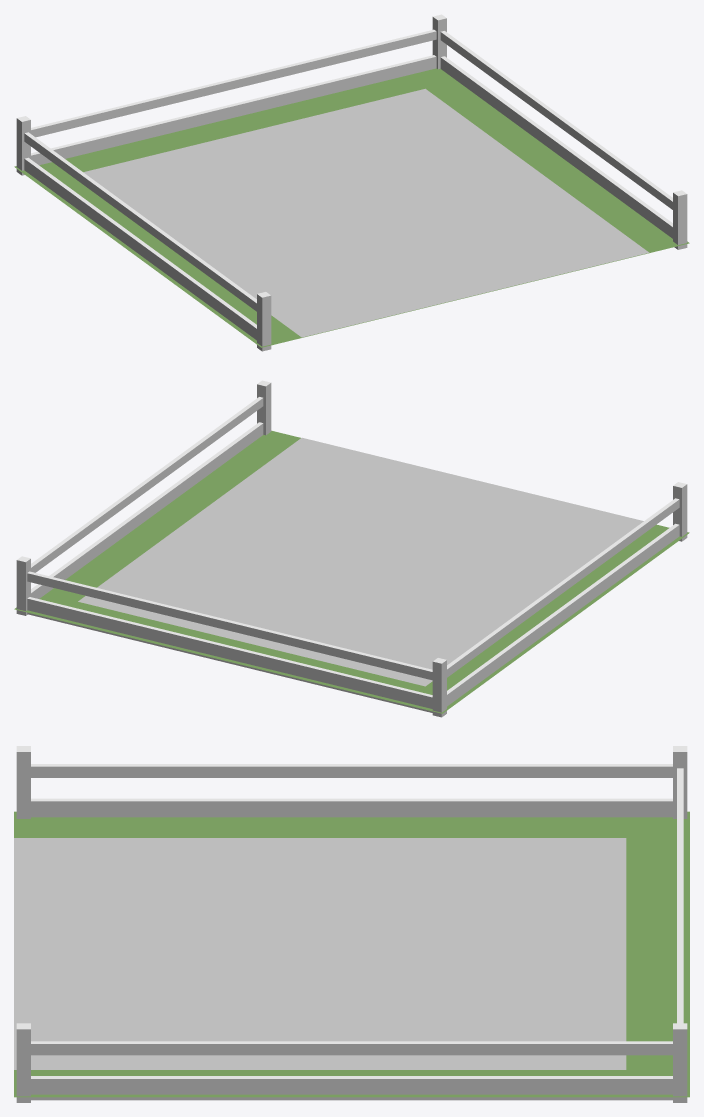
Rendered from tile_for_home_1x1_013.fbx.
3 renders of one model, top to bottom at view 1: azimuth 30°, elevation 25°; view 2: azimuth 150°, elevation 25°; view 3: azimuth 270°, elevation 25°, orthographic. The views are drawn at different scales.
Parts seen in each view (by area): view 1: tile_for_home_1x1_013; view 2: tile_for_home_1x1_013; view 3: tile_for_home_1x1_013.
Boxes of the visible parts, x1,y1,x2,y2 form: tile_for_home_1x1_013: [14, 14, 689, 351]; tile_for_home_1x1_013: [14, 380, 689, 717]; tile_for_home_1x1_013: [14, 746, 689, 1102].
Bounding box in the file's own units: 800 × 95.9 × 800.
